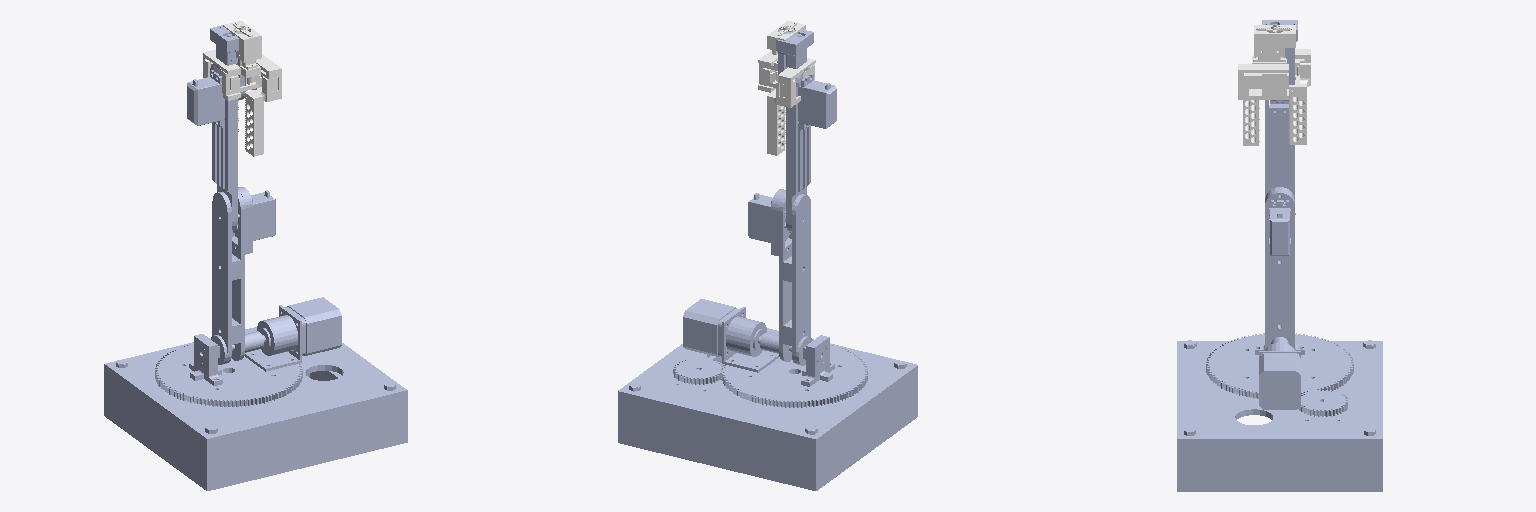
robot.urdf — me380_cad_v8:
<?xml version="1.0" encoding="utf-8"?>
<!-- This URDF was automatically created by SolidWorks to URDF Exporter! Originally created by [author] ([email redacted]) 
     Commit Version: 1.6.0-4-g7f85cfe  Build Version: 1.6.7995.38578
     For more information, please see http://wiki.ros.org/sw_urdf_exporter -->
<robot
  name="me380_cad_v8">
  <link
    name="base_link">
    <inertial>
      <origin
        xyz="0.0661711995002421 -0.181511487618111 0.089463184915841"
        rpy="0 0 0" />
      <mass
        value="1.77014769465671" />
      <inertia
        ixx="0.00210043805116231"
        ixy="-1.06304625112232E-05"
        ixz="2.671762423883E-11"
        iyy="0.00548702149822165"
        iyz="3.2991981549638E-09"
        izz="0.00696124579132741" />
    </inertial>
    <visual>
      <origin
        xyz="0 0 0"
        rpy="0 0 0" />
      <geometry>
        <mesh
          filename="package://me380_cad_v8/meshes/base_link.STL" />
      </geometry>
      <material
        name="">
        <color
          rgba="0.792156862745098 0.819607843137255 0.933333333333333 1" />
      </material>
    </visual>
    <collision>
      <origin
        xyz="0 0 0"
        rpy="0 0 0" />
      <geometry>
        <mesh
          filename="package://me380_cad_v8/meshes/base_link.STL" />
      </geometry>
    </collision>
  </link>
  <link
    name="link_1">
    <inertial>
      <origin
        xyz="-0.0119572370563945 -6.86703294783264E-08 0.0394493472983051"
        rpy="0 0 0" />
      <mass
        value="0.234735401185841" />
      <inertia
        ixx="0.000327377816143035"
        ixy="-6.90859388623081E-20"
        ixz="6.58315442248317E-07"
        iyy="0.000197997980780525"
        iyz="5.25121936349132E-10"
        izz="0.000162891688691935" />
    </inertial>
    <visual>
      <origin
        xyz="0 0 0"
        rpy="0 0 0" />
      <geometry>
        <mesh
          filename="package://me380_cad_v8/meshes/link_1.STL" />
      </geometry>
      <material
        name="">
        <color
          rgba="0.792156862745098 0.819607843137255 0.933333333333333 1" />
      </material>
    </visual>
    <collision>
      <origin
        xyz="0 0 0"
        rpy="0 0 0" />
      <geometry>
        <mesh
          filename="package://me380_cad_v8/meshes/link_1.STL" />
      </geometry>
    </collision>
  </link>
  <joint
    name="joint_1"
    type="continuous">
    <origin
      xyz="0.032747 -0.18382 0.13053"
      rpy="0 1.5708 0" />
    <parent
      link="base_link" />
    <child
      link="link_1" />
    <axis
      xyz="1 0 0" />
    <limit
      lower="0"
      upper="6"
      effort="0"
      velocity="0" />
  </joint>
  <link
    name="link_2">
    <inertial>
      <origin
        xyz="0.0244507811060606 0.092459928680124 0.00991038643168948"
        rpy="0 0 0" />
      <mass
        value="0.104812994960232" />
      <inertia
        ixx="0.000166298263894777"
        ixy="-1.55209877075966E-06"
        ixz="2.057229613918E-12"
        iyy="1.19414239185462E-05"
        iyz="-1.18044490251169E-12"
        izz="0.000164833554795588" />
    </inertial>
    <visual>
      <origin
        xyz="0 0 0"
        rpy="0 0 0" />
      <geometry>
        <mesh
          filename="package://me380_cad_v8/meshes/link_2.STL" />
      </geometry>
      <material
        name="">
        <color
          rgba="0.792156862745098 0.819607843137255 0.933333333333333 1" />
      </material>
    </visual>
    <collision>
      <origin
        xyz="0 0 0"
        rpy="0 0 0" />
      <geometry>
        <mesh
          filename="package://me380_cad_v8/meshes/link_2.STL" />
      </geometry>
    </collision>
  </link>
  <joint
    name="joint_2"
    type="continuous">
    <origin
      xyz="-0.024975 0.0099104 -0.015"
      rpy="1.5708 -1.5708 0" />
    <parent
      link="link_1" />
    <child
      link="link_2" />
    <axis
      xyz="1 0 0" />
    <limit
      lower="-3"
      upper="3"
      effort="0"
      velocity="0" />
  </joint>
  <link
    name="link_3">
    <inertial>
      <origin
        xyz="0.064902 0.07578 0.0067562"
        rpy="0 0 0" />
      <mass
        value="0.07546" />
      <inertia
        ixx="5.8323E-05"
        ixy="-5.1253E-05"
        ixz="6.0104E-09"
        iyy="6.2717E-05"
        iyz="7.8605E-09"
        izz="0.00011183" />
    </inertial>
    <visual>
      <origin
        xyz="0 0 0"
        rpy="0 0 0" />
      <geometry>
        <mesh
          filename="package://me380_cad_v8/meshes/link_3.STL" />
      </geometry>
      <material
        name="">
        <color
          rgba="0.79216 0.81961 0.93333 1" />
      </material>
    </visual>
    <collision>
      <origin
        xyz="0 0 0"
        rpy="0 0 0" />
      <geometry>
        <mesh
          filename="package://me380_cad_v8/meshes/link_3.STL" />
      </geometry>
    </collision>
  </link>
  <joint
    name="joint_3"
    type="continuous">
    <origin
      xyz="0.015 0.14353 0.00315"
      rpy="0 0 0.82926" />
    <parent
      link="link_2" />
    <child
      link="link_3" />
    <axis
      xyz="0 0 1" />
  </joint>
  <link
    name="link_4">
    <inertial>
      <origin
        xyz="0.0115325048786553 -0.0317112640099692 -0.00683321249373559"
        rpy="0 0 0" />
      <mass
        value="0.0291151923289962" />
      <inertia
        ixx="1.18081150083524E-05"
        ixy="1.28959641163954E-06"
        ixz="2.78449085857759E-09"
        iyy="3.00560474213038E-06"
        iyz="2.98703157195686E-08"
        izz="1.04100622983647E-05" />
    </inertial>
    <visual>
      <origin
        xyz="0 0 0"
        rpy="0 0 0" />
      <geometry>
        <mesh
          filename="package://me380_cad_v8/meshes/link_4.STL" />
      </geometry>
      <material
        name="">
        <color
          rgba="0.792156862745098 0.819607843137255 0.933333333333333 1" />
      </material>
    </visual>
    <collision>
      <origin
        xyz="0 0 0"
        rpy="0 0 0" />
      <geometry>
        <mesh
          filename="package://me380_cad_v8/meshes/link_4.STL" />
      </geometry>
    </collision>
  </link>
  <joint
    name="joint_4"
    type="continuous">
    <origin
      xyz="0.10337 0.094677 0"
      rpy="3.1416 0 -0.56113" />
    <parent
      link="link_3" />
    <child
      link="link_4" />
    <axis
      xyz="0 0 1" />
  </joint>
  <link
    name="link_5">
    <inertial>
      <origin
        xyz="-0.00412183315559317 0.0497864909775553 -0.00703785916643137"
        rpy="0 0 0" />
      <mass
        value="0.0879055173886061" />
      <inertia
        ixx="1.66820530241727E-05"
        ixy="5.71755933132019E-08"
        ixz="2.11670284612999E-07"
        iyy="1.68434169543333E-05"
        iyz="4.41115686302401E-12"
        izz="2.15310087540953E-05" />
    </inertial>
    <visual>
      <origin
        xyz="0 0 0"
        rpy="0 0 0" />
      <geometry>
        <mesh
          filename="package://me380_cad_v8/meshes/link_5.STL" />
      </geometry>
      <material
        name="">
        <color
          rgba="1 1 1 1" />
      </material>
    </visual>
    <collision>
      <origin
        xyz="0 0 0"
        rpy="0 0 0" />
      <geometry>
        <mesh
          filename="package://me380_cad_v8/meshes/link_5.STL" />
      </geometry>
    </collision>
  </link>
  <joint
    name="joint_5"
    type="continuous">
    <origin
      xyz="0.02125 -0.057889 -0.0089"
      rpy="0.26813 -1.5708 0" />
    <parent
      link="link_4" />
    <child
      link="link_5" />
    <axis
      xyz="0 1 0" />
  </joint>
</robot>

--- Facts derived from the render (not from the file) ---
3 views of the same robot in one strip: view 1: azimuth 30°, elevation 25°; view 2: azimuth 150°, elevation 25°; view 3: azimuth 270°, elevation 25° (orthographic).
Robot: me380_cad_v8 — 6 links, 5 joints (5 continuous); root link base_link; default pose: every joint at zero.
Links seen in each view (by area): view 1: base_link, link_1, link_2, link_5, link_3, link_4; view 2: base_link, link_1, link_2, link_3, link_5, link_4; view 3: base_link, link_1, link_5, link_2, link_3.
Boxes of the visible links, x1,y1,x2,y2 form: base_link: (104,327,407,490); link_1: (155,297,341,406); link_2: (199,187,275,364); link_5: (203,21,281,156); link_3: (187,64,239,229); link_4: (210,25,245,100); base_link: (618,328,917,490); link_1: (683,299,867,407); link_2: (748,189,823,365); link_3: (784,68,836,232); link_5: (758,21,815,155); link_4: (776,28,813,74); base_link: (1177,340,1382,491); link_1: (1206,333,1353,409); link_5: (1238,25,1310,145); link_2: (1265,187,1294,348); link_3: (1265,100,1295,220).
Size in the robot's own frame: 0.2286 by 0.2032 by 0.4455 metres.
Meshes: 6 distinct files referenced, 6 mesh visuals loaded (6 binary STL).